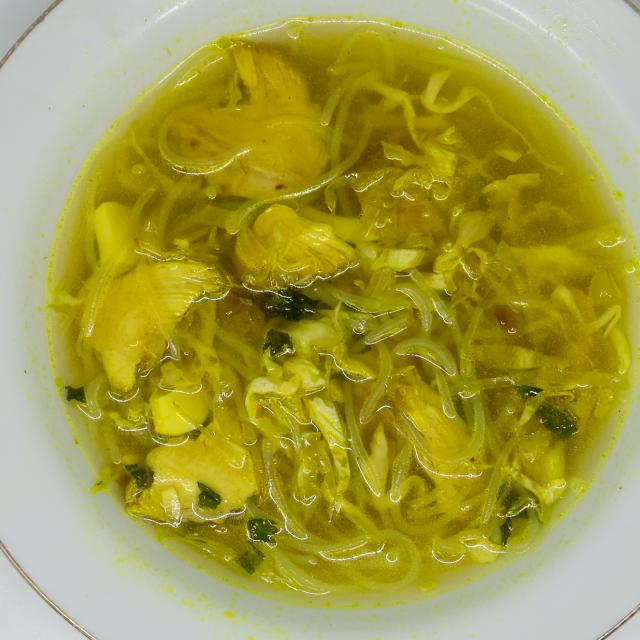Soto-Lamongan: (45, 13, 618, 590)
